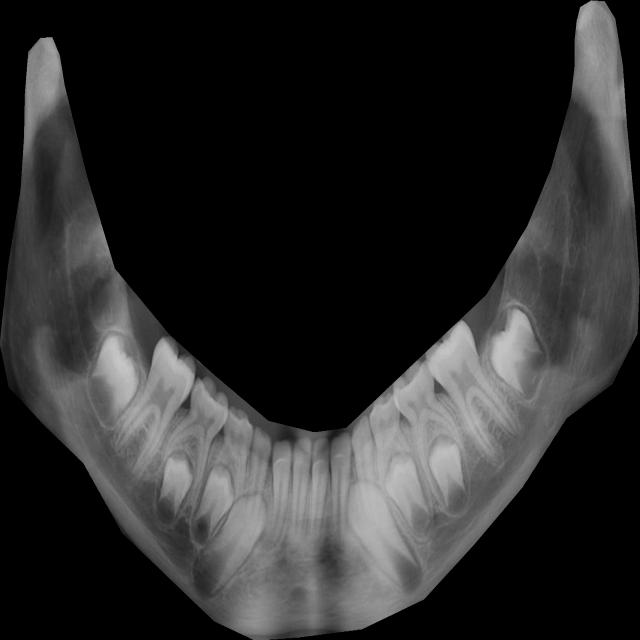mandibula: (0, 0, 640, 640)
